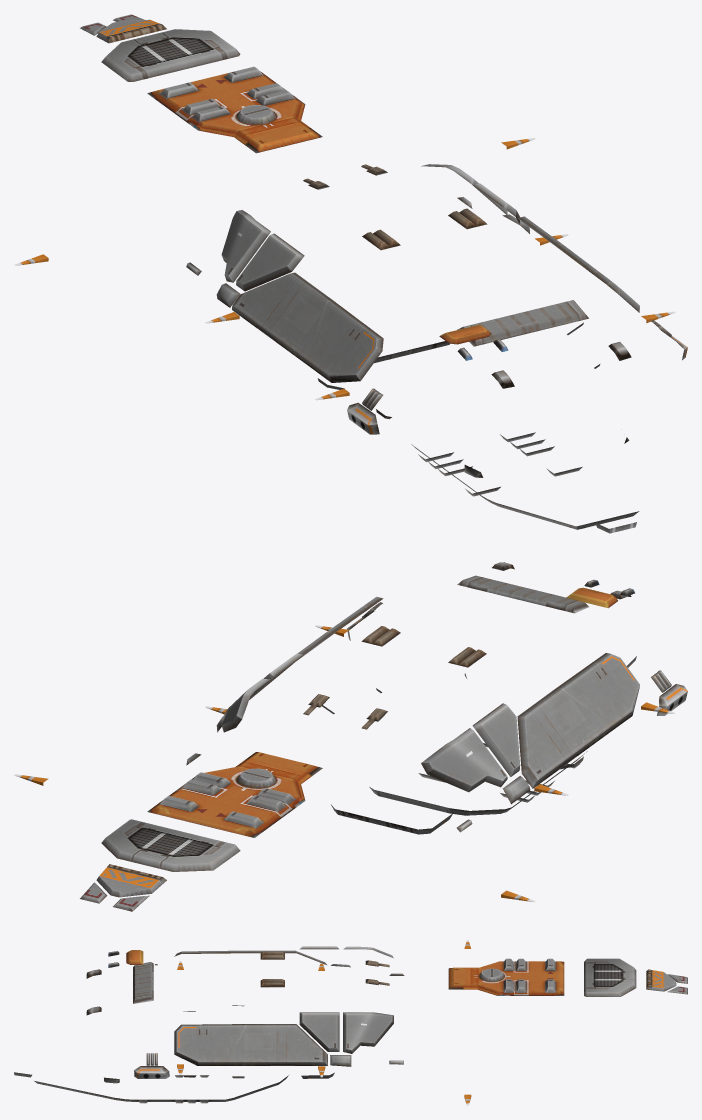
File: hgn_cf_torp_01_t3.glb
3 views of the same model, one above another, from view 1: azimuth 30°, elevation 25°; view 2: azimuth 150°, elevation 25°; view 3: azimuth 270°, elevation 25° (orthographic). The views are drawn at different scales.
Parts seen in each view (by area): view 1: hgn_torpedo_frigate_01_t3_LOD0; view 2: hgn_torpedo_frigate_01_t3_LOD0; view 3: hgn_torpedo_frigate_01_t3_LOD0.
Boxes of the visible parts, x1,y1,x2,y2 form: hgn_torpedo_frigate_01_t3_LOD0: [14, 14, 687, 533]; hgn_torpedo_frigate_01_t3_LOD0: [14, 562, 687, 911]; hgn_torpedo_frigate_01_t3_LOD0: [14, 940, 687, 1105].
Size of what is drawn, in the model's own units: 1.47 by 0.496 by 2.52.
1 material, 1 textured.
